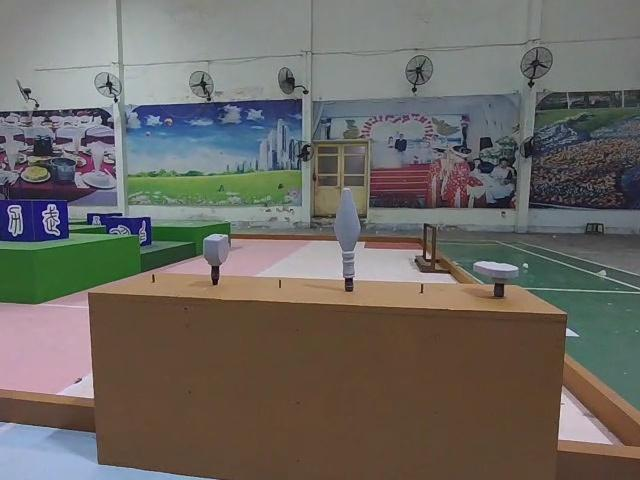Fist: (201, 235, 230, 285)
Hand: (471, 258, 519, 297)
Sph: (332, 185, 363, 292)
